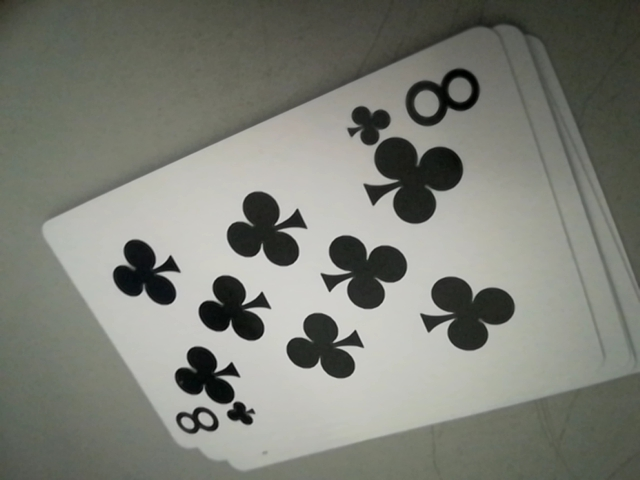mh 8: (347, 57, 493, 142), (167, 398, 254, 444)
